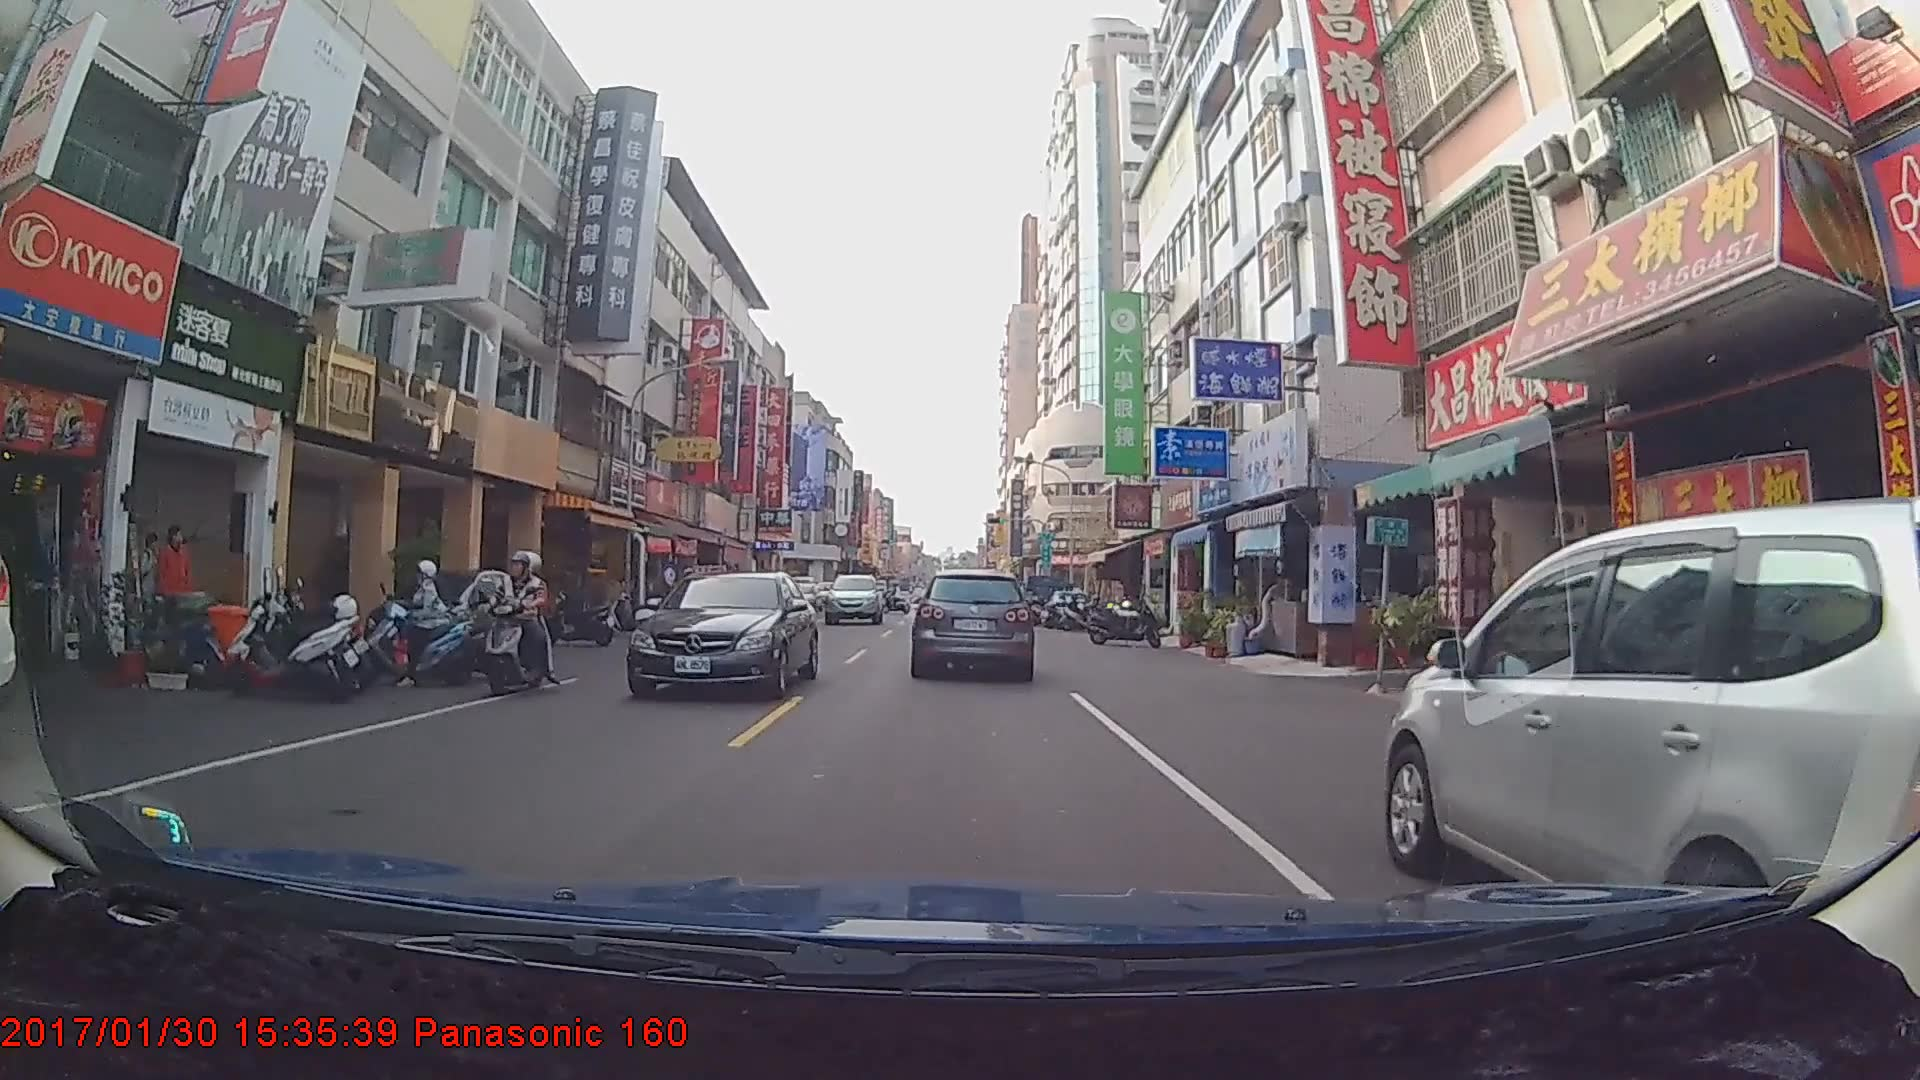pedestrian: (154, 518, 202, 643), (132, 523, 168, 641)
rider: (471, 544, 560, 700)
vehicle: (1382, 501, 1920, 965), (625, 569, 820, 702), (912, 568, 1032, 680), (823, 574, 884, 626), (1024, 574, 1070, 617)
